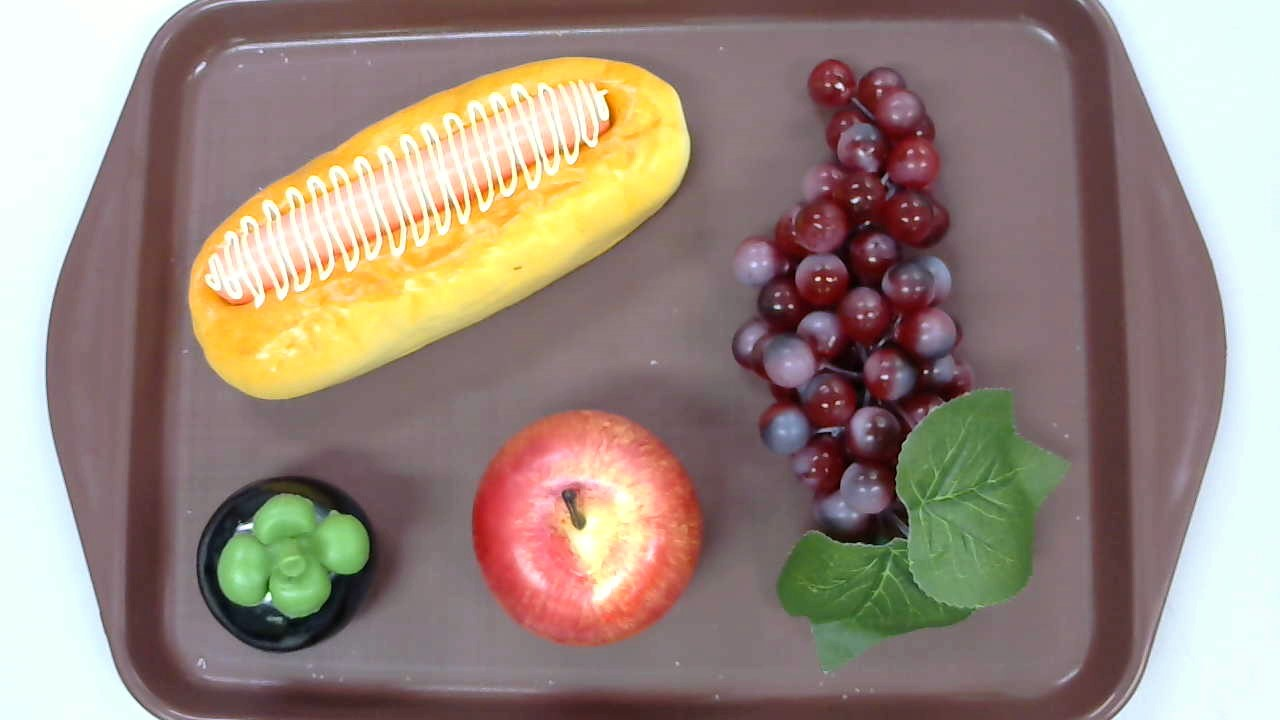grape: (732, 59, 1074, 680)
hot dog: (187, 56, 691, 400)
mangosteen: (196, 475, 379, 653)
red apple: (472, 409, 704, 647)
